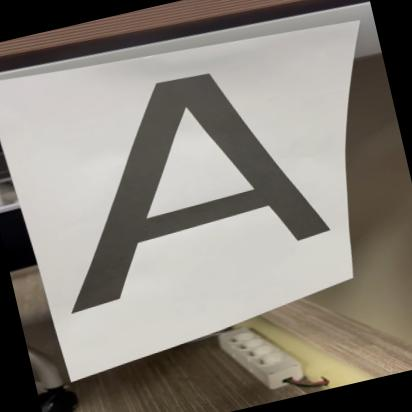seat: (19, 34, 360, 328)
